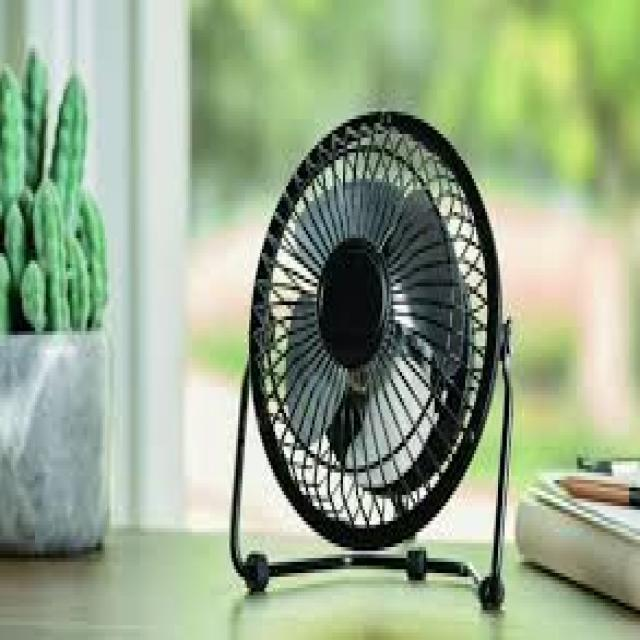fan: (214, 90, 530, 620)
